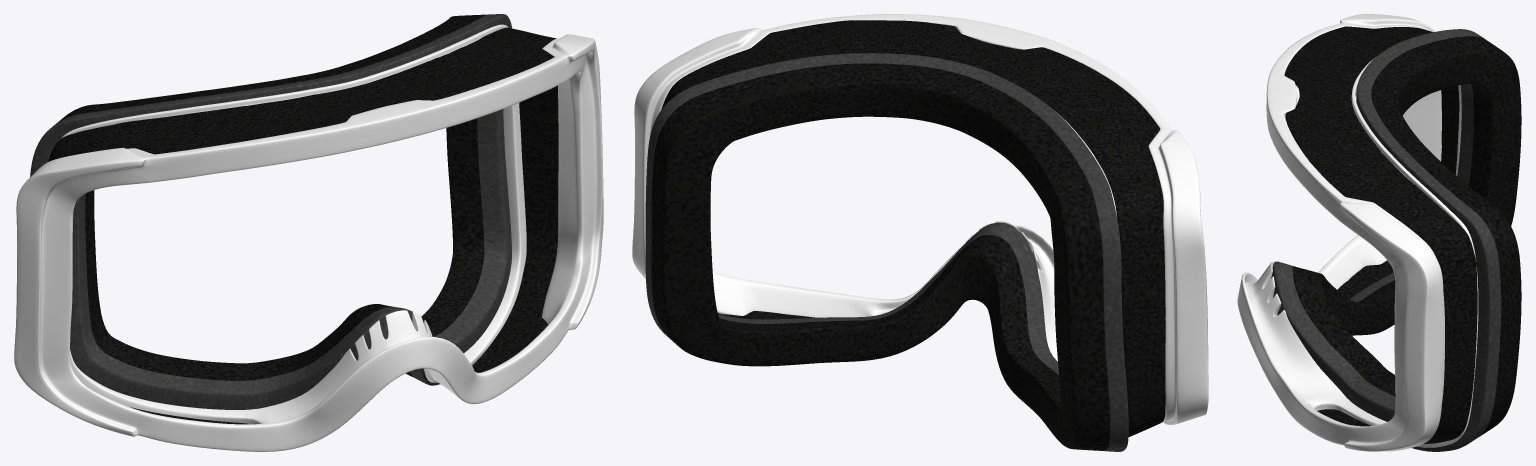
Rendered from FRAME_Kepler_MOKP007_002.glb.
The picture shows the model from 3 angles, left to right: view 1: azimuth 30°, elevation 25°; view 2: azimuth 150°, elevation 25°; view 3: azimuth 270°, elevation 25°; orthographic projection. The views are drawn at different scales.
Visible parts, largest first — view 1: Full_rim_geometry, Frame-Add_frame-02_geometry_geometry, Frame-Add_frame-01_geometry_geometry; view 2: Frame-Add_frame-02_geometry_geometry, Frame-Add_frame-01_geometry_geometry, Full_rim_geometry; view 3: Frame-Add_frame-02_geometry_geometry, Full_rim_geometry, Frame-Add_frame-01_geometry_geometry.
Boxes of the visible parts, <box> form: Full_rim_geometry: <box>14,24,603,451</box>; Frame-Add_frame-02_geometry_geometry: <box>30,14,512,409</box>; Frame-Add_frame-01_geometry_geometry: <box>48,27,558,424</box>; Frame-Add_frame-02_geometry_geometry: <box>645,53,1128,451</box>; Frame-Add_frame-01_geometry_geometry: <box>661,20,1165,437</box>; Full_rim_geometry: <box>632,14,1208,424</box>; Frame-Add_frame-02_geometry_geometry: <box>1271,29,1521,451</box>; Full_rim_geometry: <box>1237,14,1478,451</box>; Frame-Add_frame-01_geometry_geometry: <box>1284,26,1477,443</box>.
Size of the model in its own units: 0.1792 by 0.0947 by 0.0857.
1 material, 1 textured.
